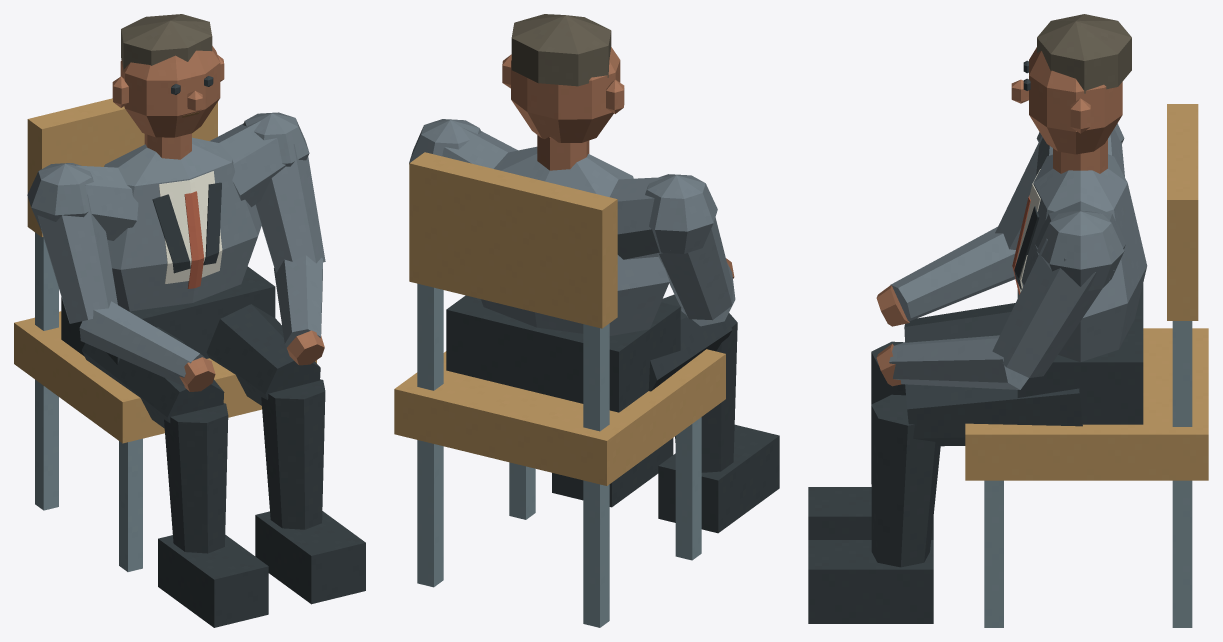
The model's file is low-poly-character-formal-male-seated-static.glb.
3 renders of one model, left to right at view 1: azimuth 30°, elevation 25°; view 2: azimuth 150°, elevation 25°; view 3: azimuth 270°, elevation 25°, orthographic. The views are drawn at different scales.
Parts seen in each view (by area): view 1: Clothed torso 001, Seat pad 032, Trouser lower leg 013, Trouser lower leg 021, Original flat sole shoe 014, Original flat sole shoe 022, Chair back 039, Neutral face 004, Trouser upper leg 020, Clothed upper sleeve 017, Trouser waistband 002, Clothed upper sleeve 025 (+18 smaller); view 2: Chair back 039, Seat pad 032, Trouser waistband 002, Clothed torso 001, Original flat sole shoe 014, Short faceted hair 005, Neutral face 004, Clothed shoulder cap 016, Clothed upper sleeve 017, Chair leg 034, Chair leg 036, Chair leg 033 (+11 smaller); view 3: Seat pad 032, Clothed torso 001, Trouser lower leg 021, Original flat sole shoe 022, Trouser upper leg 020, Clothed upper sleeve 025, Chair back 039, Trouser waistband 002, Forearm 018, Neutral face 004, Short faceted hair 005, Forearm 026 (+14 smaller).
Boxes of the visible parts, box(x1,y1,x2,y2) form: Clothed torso 001: box(104, 137, 261, 311); Seat pad 032: box(14, 311, 316, 443); Trouser lower leg 013: box(164, 403, 228, 553); Trouser lower leg 021: box(261, 379, 325, 529); Original flat sole shoe 014: box(158, 535, 268, 627); Original flat sole shoe 022: box(255, 511, 365, 604); Chair back 039: box(27, 98, 217, 236); Neutral face 004: box(120, 46, 220, 137); Trouser upper leg 020: box(206, 304, 320, 405); Clothed upper sleeve 017: box(37, 194, 117, 323); Trouser waistband 002: box(61, 266, 275, 364); Clothed upper sleeve 025: box(255, 141, 325, 272); Chair back 039: box(409, 152, 617, 328); Seat pad 032: box(394, 349, 725, 485); Trouser waistband 002: box(446, 295, 680, 412); Clothed torso 001: box(481, 146, 669, 335); Original flat sole shoe 014: box(658, 424, 779, 533); Short faceted hair 005: box(511, 14, 611, 86); Neutral face 004: box(511, 47, 620, 142); Clothed shoulder cap 016: box(645, 174, 717, 253); Clothed upper sleeve 017: box(658, 217, 732, 320); Chair leg 034: box(583, 480, 609, 627); Chair leg 036: box(417, 440, 443, 587); Chair leg 033: box(675, 417, 701, 560); Seat pad 032: box(965, 328, 1208, 480); Clothed torso 001: box(1021, 154, 1147, 362); Trouser lower leg 021: box(871, 394, 940, 567); Original flat sole shoe 022: box(808, 540, 933, 623); Trouser upper leg 020: box(905, 384, 1082, 446); Clothed upper sleeve 025: box(992, 239, 1114, 377); Chair back 039: box(1167, 104, 1198, 320); Trouser waistband 002: box(1017, 283, 1143, 424); Forearm 018: box(890, 226, 1015, 321); Neutral face 004: box(1029, 47, 1122, 154); Short faceted hair 005: box(1037, 14, 1131, 93); Forearm 026: box(889, 335, 1028, 389).
Bounding box in the file's own units: 0.8136 × 1.42 × 0.9186.
9 materials, 9 textured.
